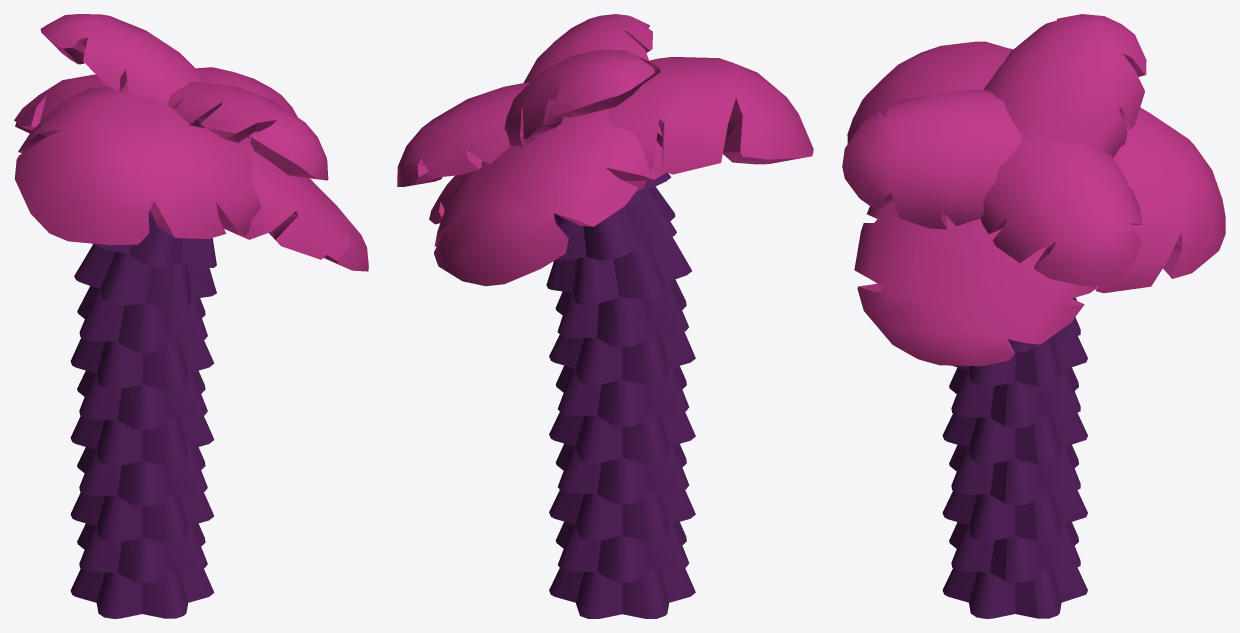
File: palmera.fbx
The picture shows the model from 3 angles, left to right: view 1: azimuth 30°, elevation 25°; view 2: azimuth 150°, elevation 25°; view 3: azimuth 270°, elevation 25°; orthographic projection. The views are drawn at different scales.
Visible parts, largest first — view 1: Line017, Line019, Line015, Line016, Star029, Star033, Star028, Star034, Star027, Star036, Star035, Star031 (+4 smaller); view 2: Line014, Line017, Line019, Line018, Star029, Star033, Star028, Star034, Star027, Star036, Star032, Star031 (+4 smaller); view 3: Line016, Line015, Line018, Line019, Line014, Line017, Star036, Star034, Star027, Star032, Star035, Star031 (+2 smaller).
Boxes of the visible parts, bbox=[...] form: Line017: bbox=[14, 85, 260, 245]; Line019: bbox=[40, 14, 210, 103]; Line015: bbox=[167, 82, 328, 180]; Line016: bbox=[224, 138, 368, 271]; Star029: bbox=[74, 244, 216, 311]; Star033: bbox=[77, 286, 207, 352]; Star028: bbox=[70, 337, 214, 389]; Star034: bbox=[70, 568, 214, 618]; Star027: bbox=[70, 415, 214, 465]; Star036: bbox=[70, 492, 214, 542]; Star035: bbox=[77, 523, 207, 583]; Star031: bbox=[77, 447, 207, 506]; Line014: bbox=[434, 109, 666, 286]; Line017: bbox=[607, 57, 813, 190]; Line019: bbox=[504, 49, 660, 148]; Line018: bbox=[397, 82, 530, 186]; Star029: bbox=[546, 237, 691, 304]; Star033: bbox=[555, 279, 688, 347]; Star028: bbox=[549, 332, 695, 384]; Star034: bbox=[549, 568, 695, 618]; Star027: bbox=[549, 412, 695, 462]; Star036: bbox=[549, 490, 695, 540]; Star032: bbox=[555, 365, 689, 426]; Star031: bbox=[555, 443, 689, 504]; Line016: bbox=[854, 200, 1095, 366]; Line015: bbox=[842, 90, 1022, 229]; Line018: bbox=[981, 137, 1142, 286]; Line019: bbox=[983, 14, 1146, 158]; Line014: bbox=[1095, 107, 1225, 293]; Line017: bbox=[847, 41, 1013, 143]; Star036: bbox=[942, 490, 1087, 541]; Star034: bbox=[942, 567, 1087, 618]; Star027: bbox=[942, 413, 1087, 464]; Star032: bbox=[949, 367, 1080, 428]; Star035: bbox=[949, 522, 1080, 582]; Star031: bbox=[949, 444, 1080, 505].
Size of the model in its own units: 35.7 by 35 by 56.29.
